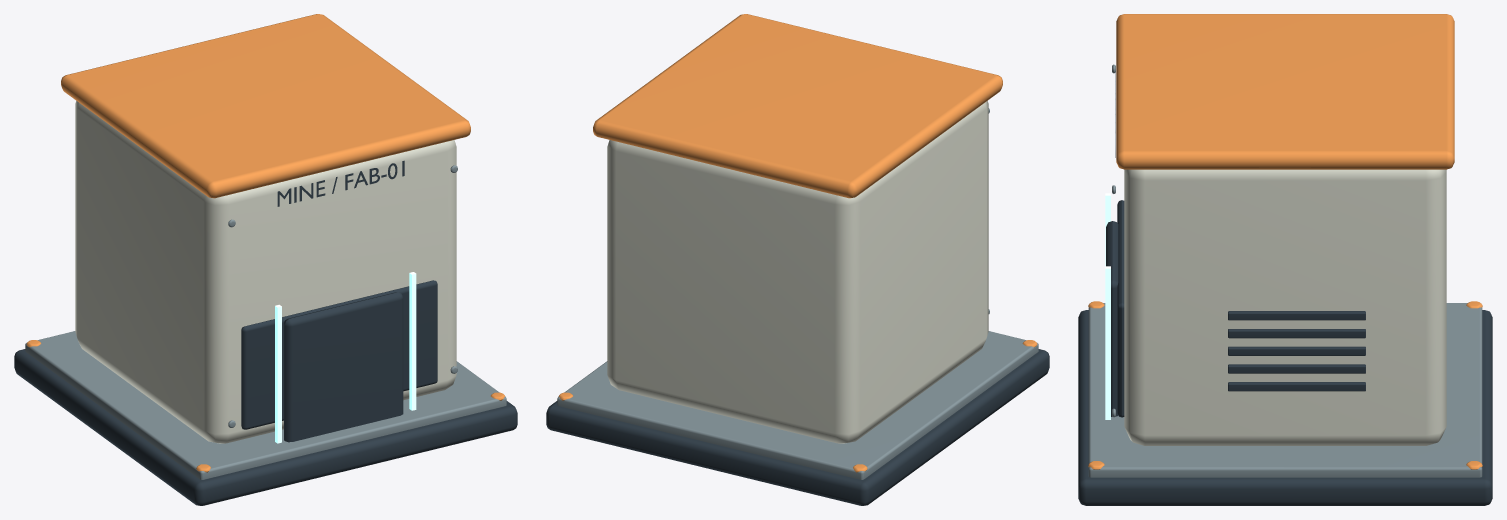
The model's file is factory.glb.
3 renders of one model, left to right at view 1: azimuth 30°, elevation 25°; view 2: azimuth 150°, elevation 25°; view 3: azimuth 270°, elevation 25°, orthographic. The views are drawn at different scales.
Visible parts, largest first — view 1: Machine shell, Foundation anchor, Foundation graphite, Inset apron, Door illumination; view 2: Machine shell, Foundation anchor, Inset apron, Foundation graphite; view 3: Machine shell, Foundation anchor, Foundation graphite, Inset apron, Door illumination.
Part boxes in pixels (x1=…): Machine shell: x1=75, y1=101, x2=456, y2=443; Foundation anchor: x1=26, y1=14, x2=505, y2=472; Foundation graphite: x1=14, y1=160, x2=517, y2=505; Inset apron: x1=25, y1=165, x2=506, y2=479; Door illumination: x1=275, y1=272, x2=416, y2=443; Machine shell: x1=607, y1=101, x2=988, y2=443; Foundation anchor: x1=558, y1=14, x2=1037, y2=472; Inset apron: x1=557, y1=108, x2=1038, y2=479; Foundation graphite: x1=546, y1=349, x2=1049, y2=505; Machine shell: x1=1124, y1=169, x2=1446, y2=445; Foundation anchor: x1=1088, y1=14, x2=1482, y2=469; Foundation graphite: x1=1078, y1=72, x2=1492, y2=505; Inset apron: x1=1088, y1=64, x2=1482, y2=477; Door illumination: x1=1105, y1=193, x2=1110, y2=419.
Size of the model in its own units: 3.6 by 3.25 by 3.6.
